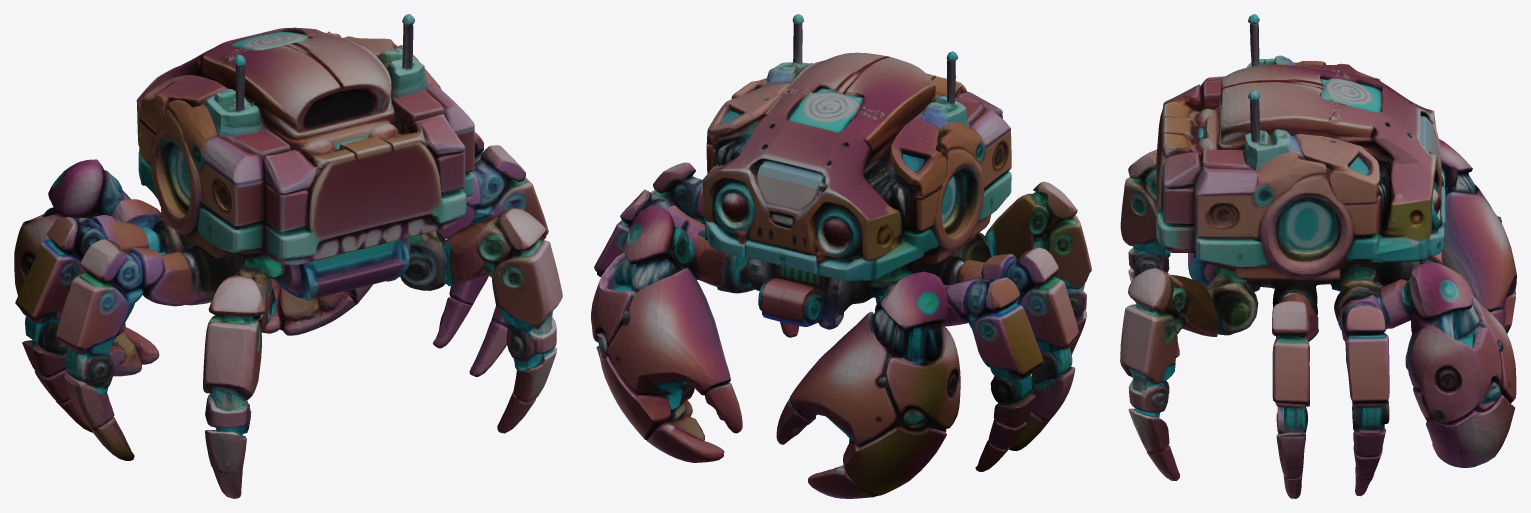
File: std_trellis_robot_crab.glb
3 renders of one model, left to right at view 1: azimuth 30°, elevation 25°; view 2: azimuth 150°, elevation 25°; view 3: azimuth 270°, elevation 25°, orthographic. The views are drawn at different scales.
Visible parts, largest first — view 1: world; view 2: world; view 3: world.
Part boxes in pixels (x1,y1,x2,y2): world: (14, 14, 562, 498); world: (591, 14, 1091, 498); world: (1120, 14, 1516, 498).
Bounding box in the file's own units: 1 × 0.7968 × 0.7768.
Materials: 1 (1 with a texture image).
